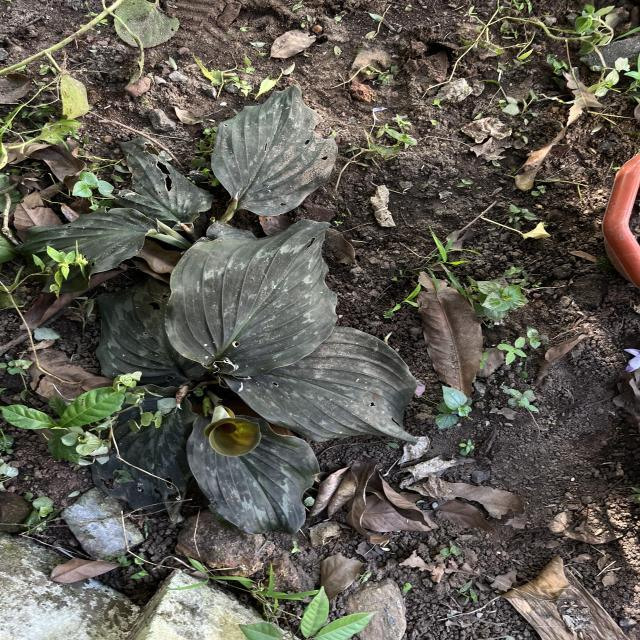Kaempferia galanga linn: (161, 216, 340, 378), (221, 323, 421, 448), (208, 81, 339, 218), (185, 408, 322, 537)
